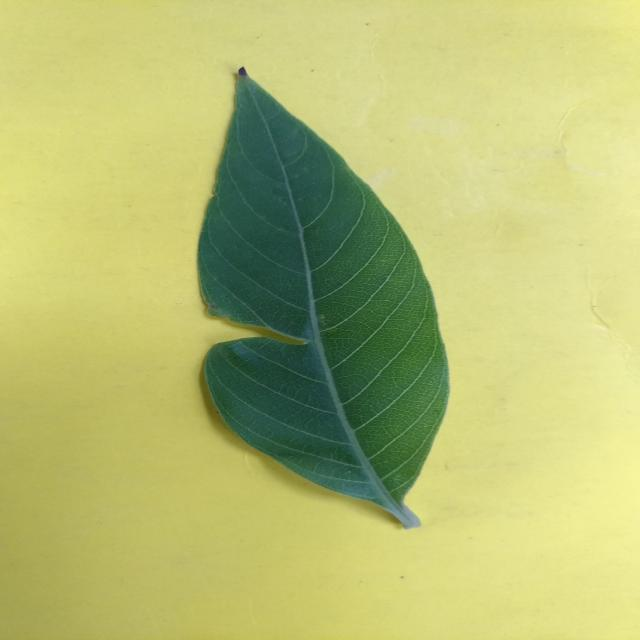seethaashoka: (198, 68, 449, 529)
